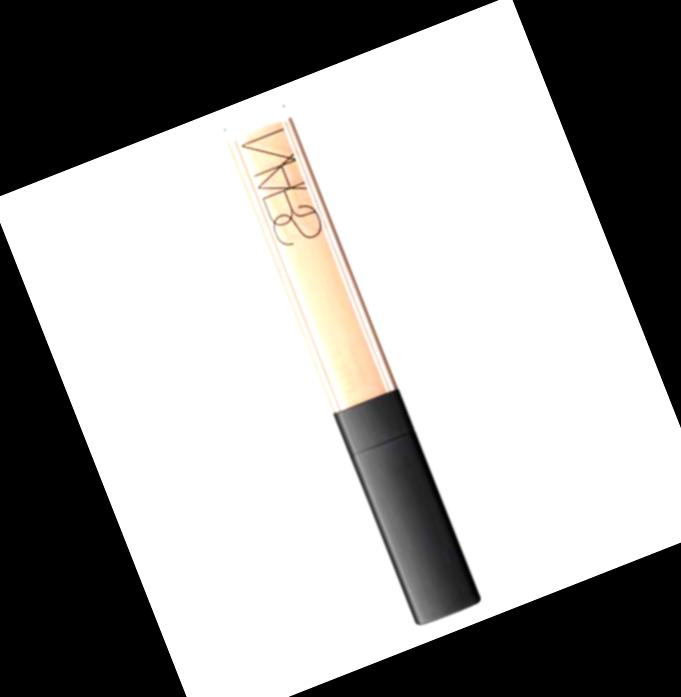cosmetic: (219, 97, 485, 626)
